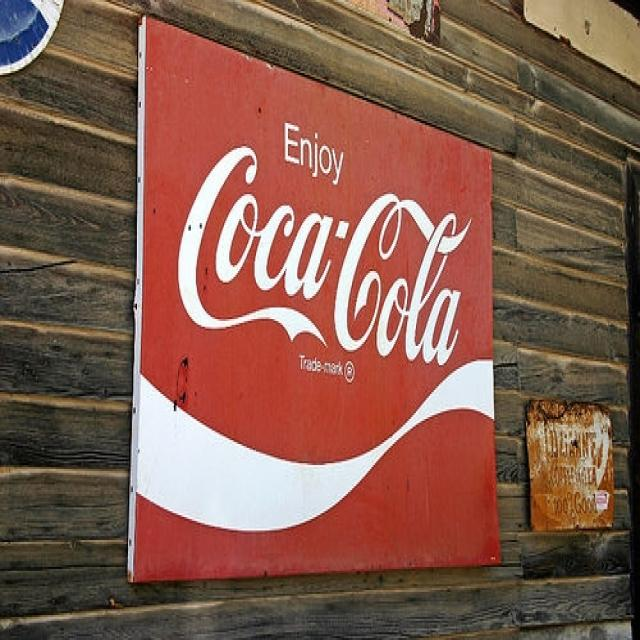cocacola: (170, 138, 477, 384)
